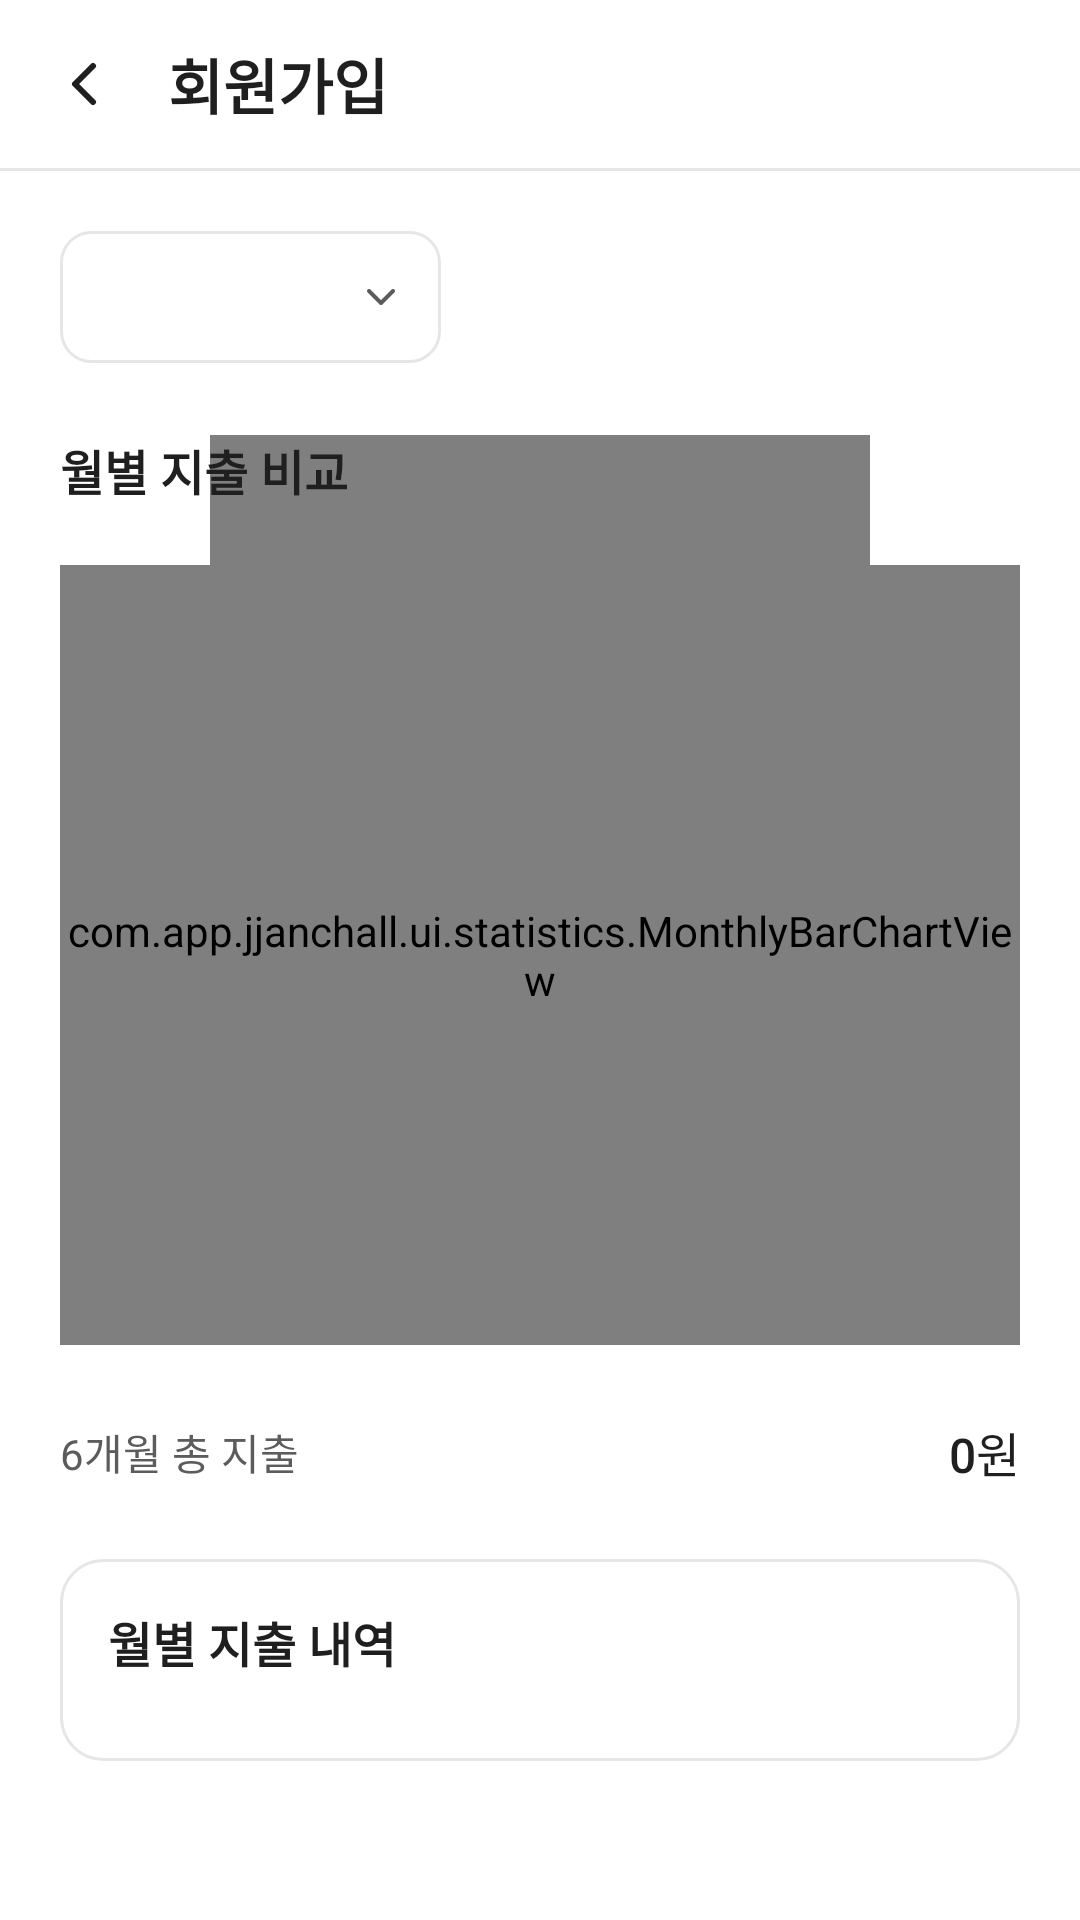

Screen size 1080×1920. Icon name, then its center in pixels as [x,y]:
chevron down: [381,297]
뒤로 가기: [84,84]
